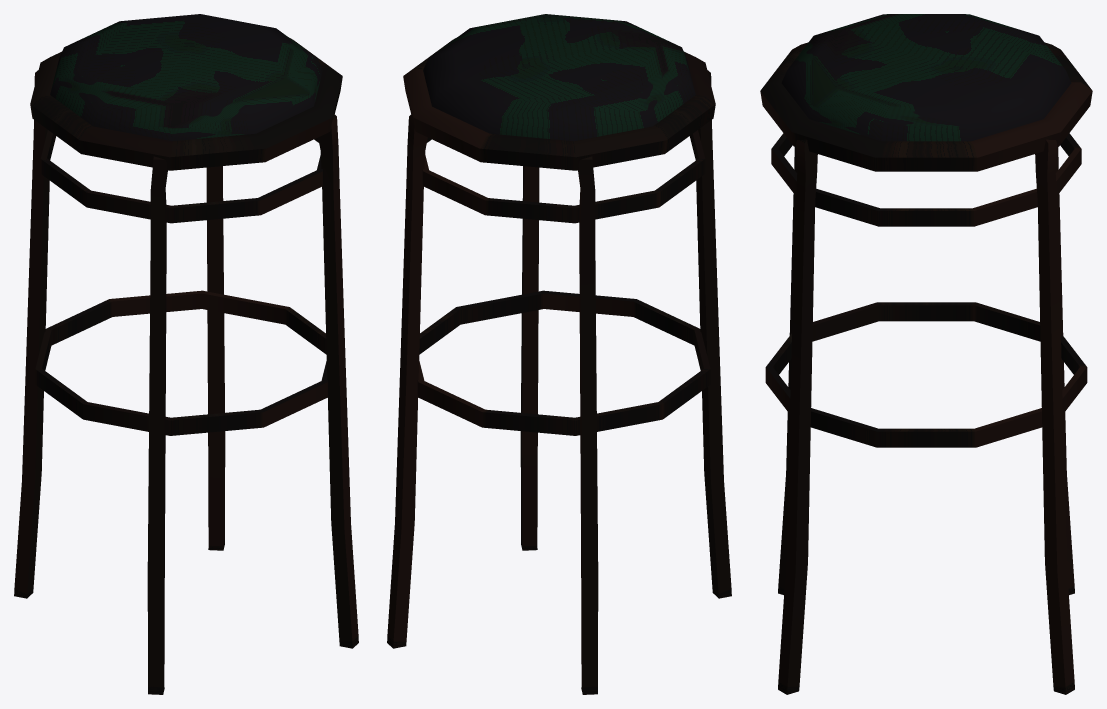
The model's file is w9_cand_stool_quat.glb.
The picture shows the model from 3 angles, left to right: view 1: azimuth 30°, elevation 25°; view 2: azimuth 150°, elevation 25°; view 3: azimuth 270°, elevation 25°; orthographic projection. The views are drawn at different scales.
Parts seen in each view (by area): view 1: Stool; view 2: Stool; view 3: Stool.
Part boxes in pixels (<box>): Stool: <box>14,14,358,694</box>; Stool: <box>387,14,731,694</box>; Stool: <box>760,14,1092,694</box>.
Size of the model in its own units: 0.6753 by 1.37 by 0.7101.
Materials: 2 (2 with a texture image).
